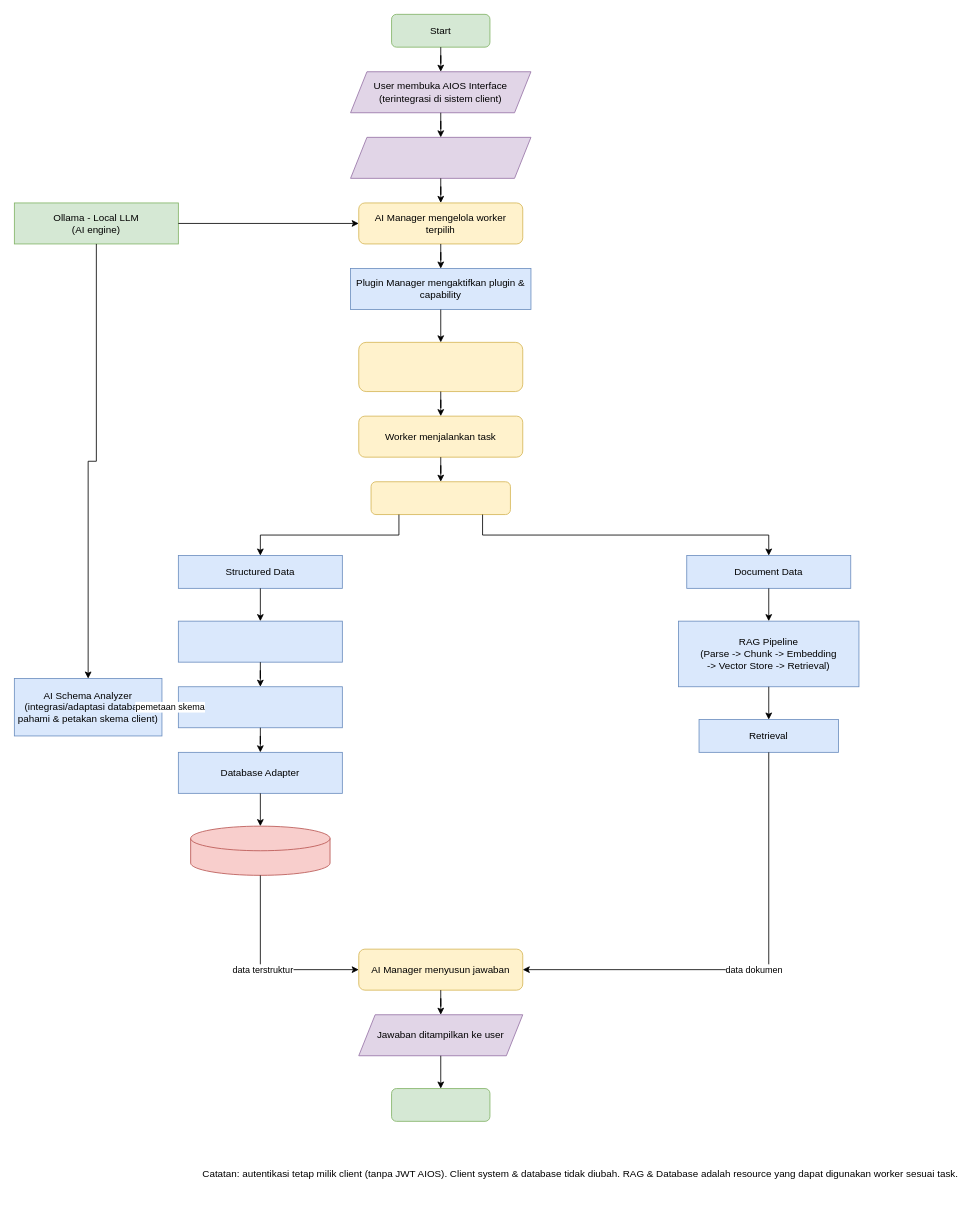
The diagram is 973 pixels wide and 1210 high, and some of its shapes have lost their labels. The shapes that lost their labels are listed below. From the top down, each one's centre as x and y in pixels, then its label:
(x=440, y=157): User memilih capability / worker (Inventory | Analytics | Documents | Reporting)
(x=440, y=367): Worker terpilih bekerja di Worker Workspace
(x=440, y=498): Tools
(x=260, y=641): AIOS Data Layer
(x=260, y=707): Canonical Data Model
(x=260, y=850): Client Database (tidak diubah)
(x=440, y=1104): End
